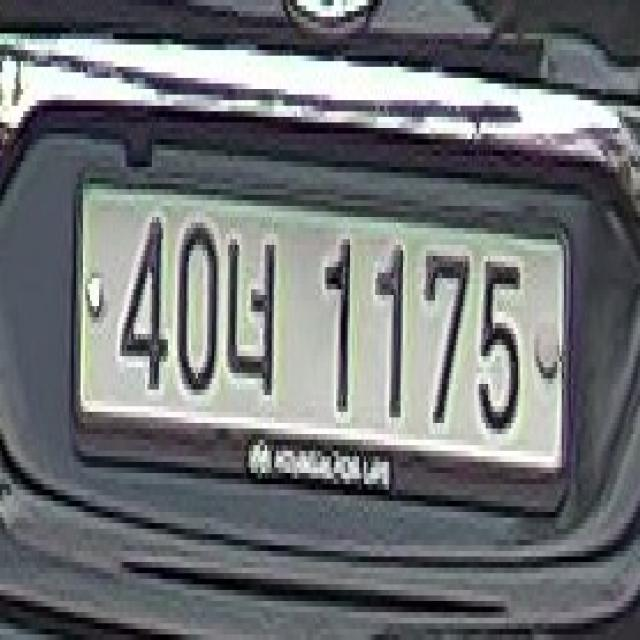0: (177, 223, 221, 406)
1: (373, 240, 407, 428), (324, 228, 356, 418)
4: (120, 212, 168, 395)
5: (477, 256, 522, 440)
7: (419, 245, 470, 434)
license_plate: (71, 167, 569, 484)
neo: (226, 228, 278, 401)
